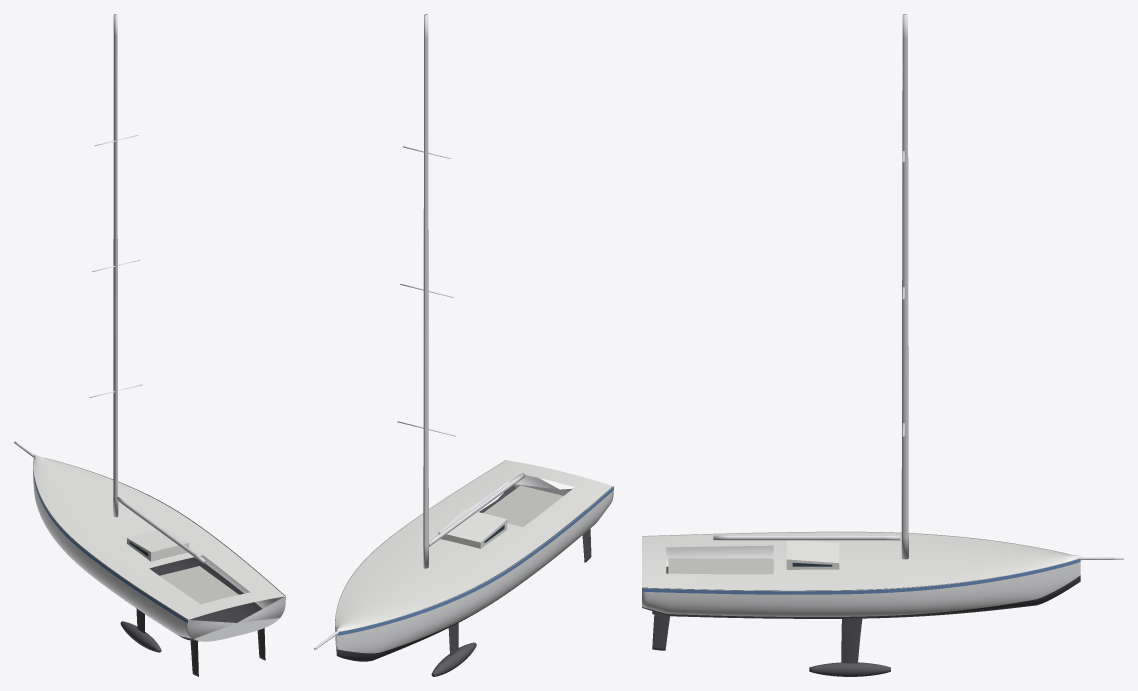
File: bagages_superior.glb
The picture shows the model from 3 angles, left to right: view 1: azimuth 30°, elevation 25°; view 2: azimuth 150°, elevation 25°; view 3: azimuth 270°, elevation 25°; orthographic projection. The views are drawn at different scales.
Visible parts, largest first — view 1: pont, coque, mat, fond, cockpit, rouf, bande, app_bulbe, pivot_bome; view 2: pont, coque, mat, cockpit, rouf, bande, fond, app_bulbe, pivot_bome; view 3: pont, coque, mat, bande, cockpit, fond, rouf, pivot_bome, app_bulbe, app_quille.
Part boxes in pixels (<box>): pont: <box>33,454,284,619</box>; coque: <box>33,458,285,641</box>; mat: <box>113,14,118,517</box>; fond: <box>34,476,262,641</box>; cockpit: <box>159,566,238,604</box>; rouf: <box>127,528,189,561</box>; bande: <box>33,462,187,623</box>; app_bulbe: <box>120,621,161,652</box>; pivot_bome: <box>116,496,205,563</box>; pont: <box>335,460,612,631</box>; coque: <box>335,460,613,653</box>; mat: <box>423,14,428,568</box>; cockpit: <box>483,485,563,527</box>; rouf: <box>438,509,507,548</box>; bande: <box>335,487,613,635</box>; fond: <box>336,485,585,661</box>; app_bulbe: <box>431,642,476,676</box>; pivot_bome: <box>429,473,525,546</box>; pont: <box>642,532,1080,590</box>; coque: <box>642,531,1080,616</box>; mat: <box>901,14,908,559</box>; bande: <box>642,558,1080,594</box>; cockpit: <box>668,558,773,574</box>; fond: <box>642,566,1080,618</box>; rouf: <box>786,540,839,569</box>; pivot_bome: <box>713,535,900,540</box>; app_bulbe: <box>809,662,890,676</box>; app_quille: <box>841,618,862,663</box>.
Size of the model in its own units: 5.81 by 30.41 by 20.08.
